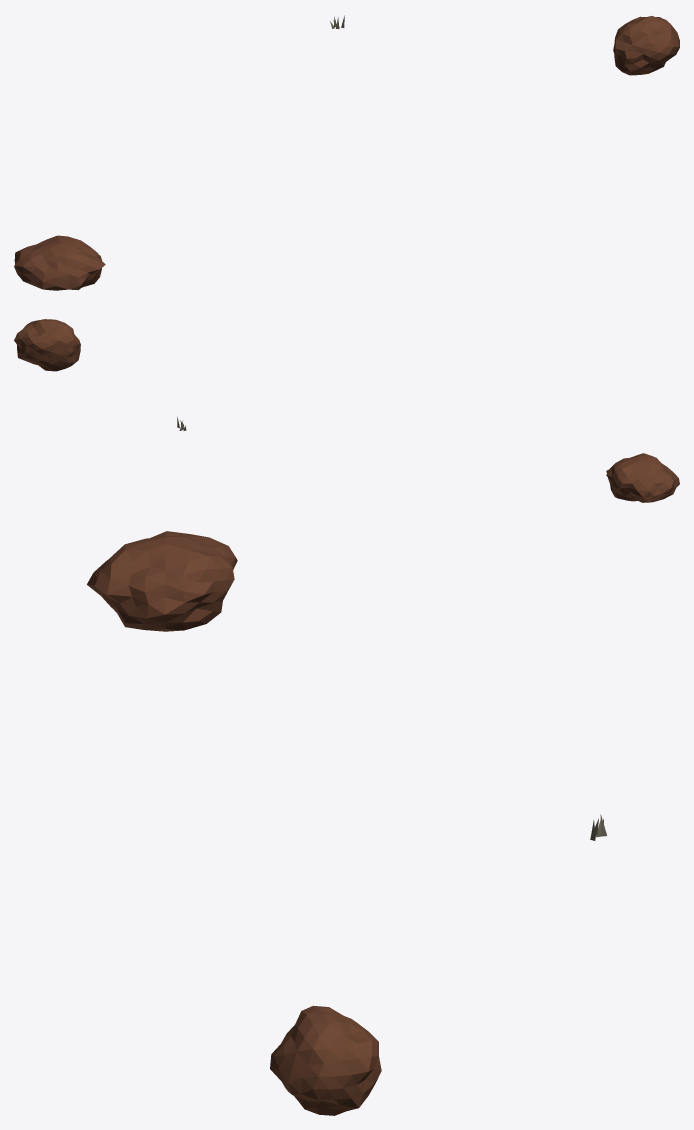
Rendered from ash_land_scatter_c17_29.glb.
3 views of the same model, one above another, from view 1: azimuth 30°, elevation 25°; view 2: azimuth 150°, elevation 25°; view 3: azimuth 270°, elevation 25° (orthographic). The views are drawn at different scales.
Parts seen in each view (by area): view 1: ash_land_scatter_c17_29; view 2: ash_land_scatter_c17_29; view 3: ash_land_scatter_c17_29.
Part boxes in pixels (<box>): ash_land_scatter_c17_29: <box>14,15,679,290</box>; ash_land_scatter_c17_29: <box>14,319,679,502</box>; ash_land_scatter_c17_29: <box>87,531,606,1115</box>.
Size of the model in its own units: 40.51 by 4.63 by 14.81.
